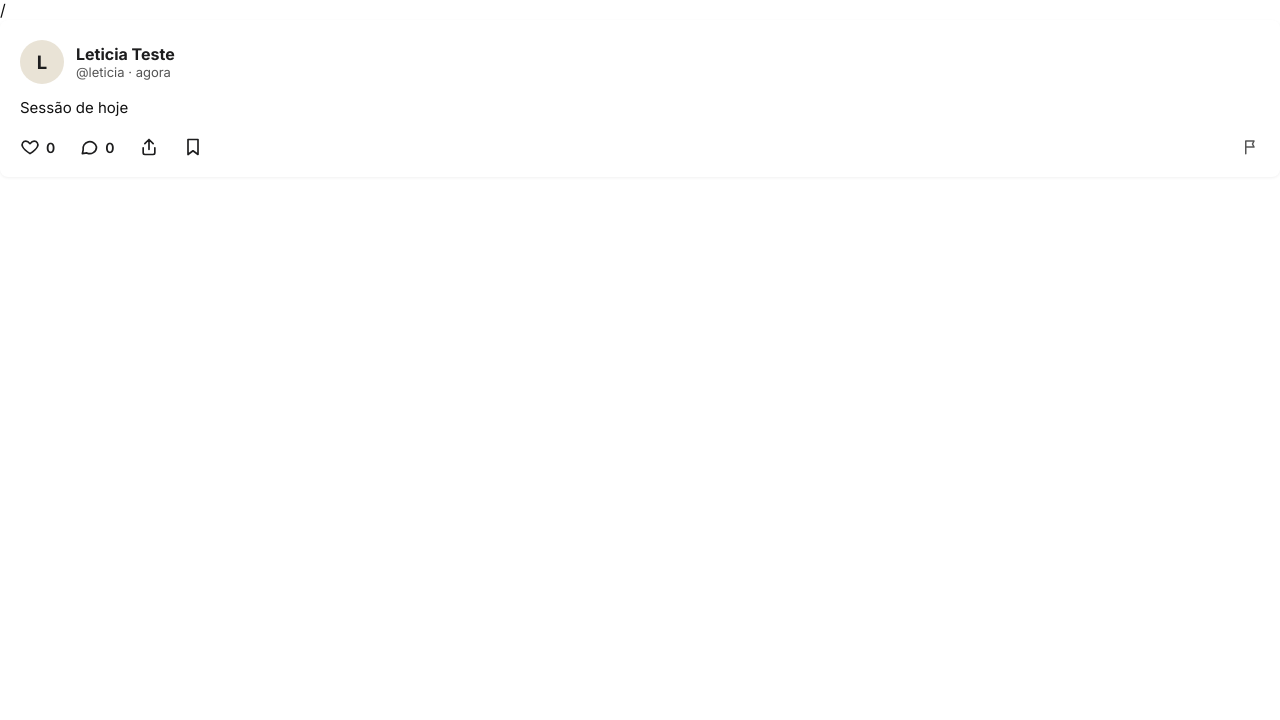
Test: denunciar › denuncia um post escolhendo o motivo
Click the button named "Denunciar post". click: (1251, 147)
box: [1232,131,1270,163]
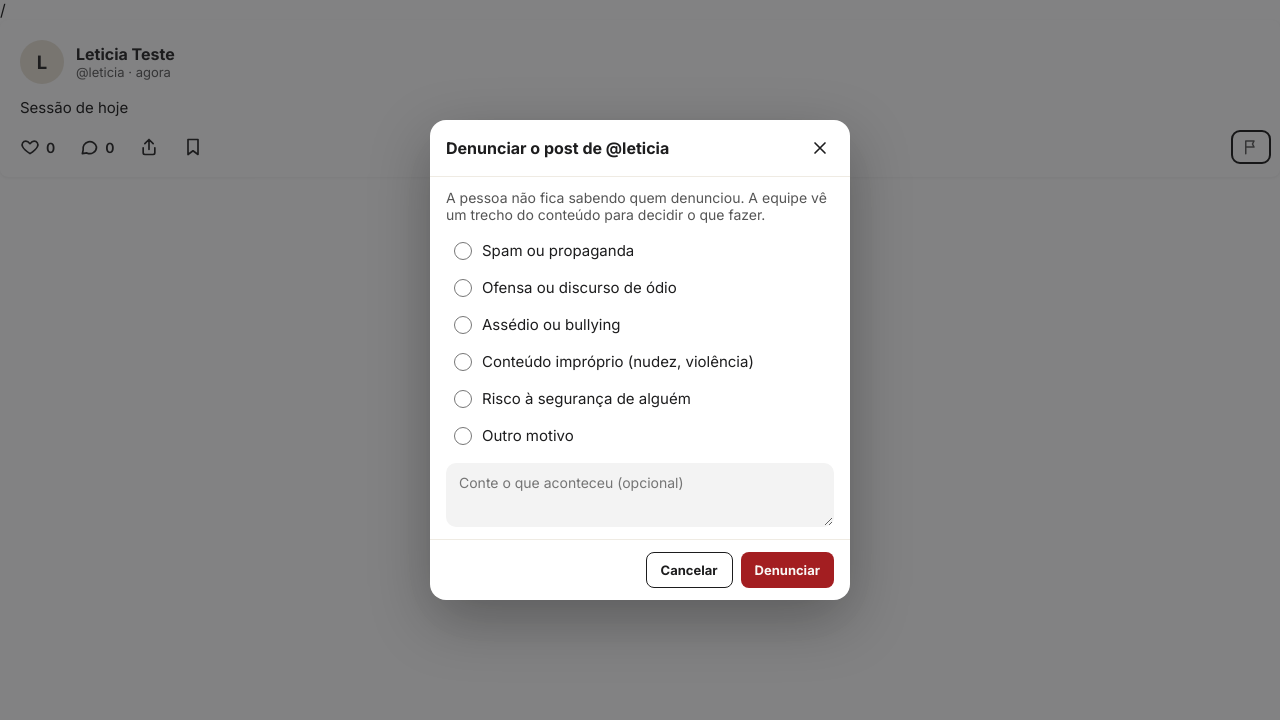
# Sem motivo não envia
Click the button "Denunciar". click: (787, 570)
box: [741,552,834,588]
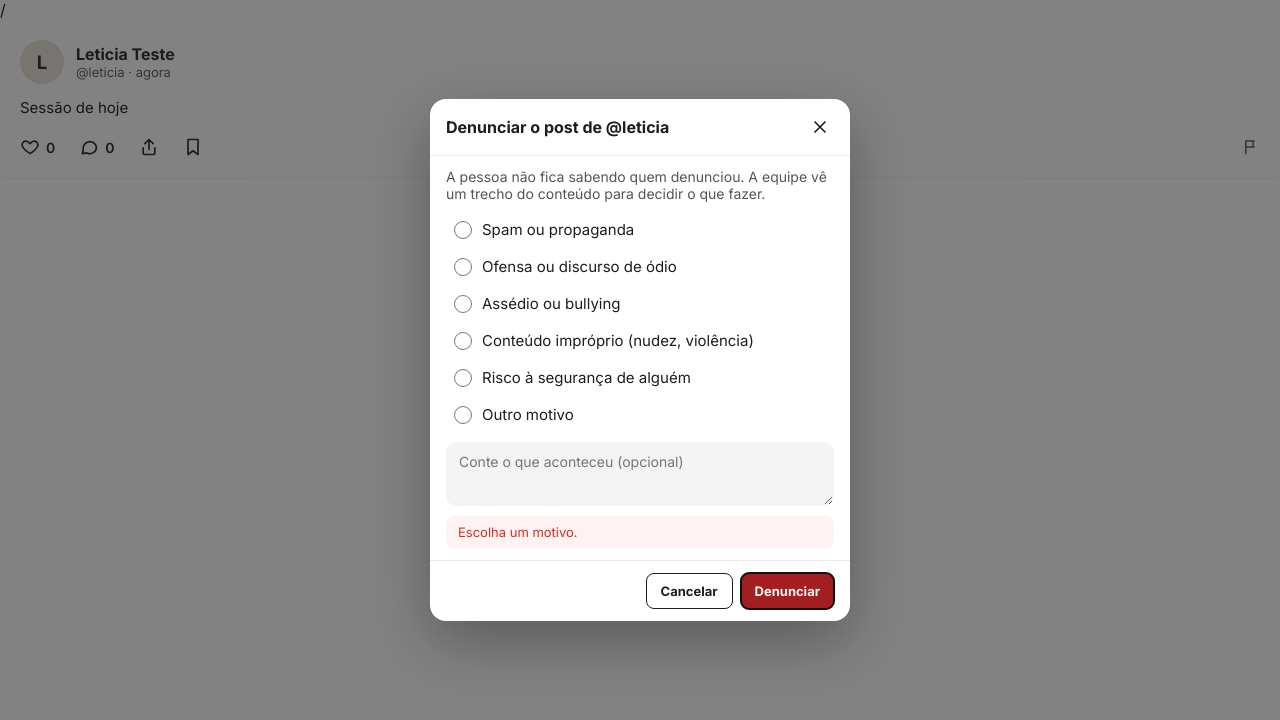
Expected: the message reads "Escolha um motivo.", [458,524,578,540]
Click the radio button labelled "Spam ou propaganda". click: (463, 230)
box: [454,220,472,238]
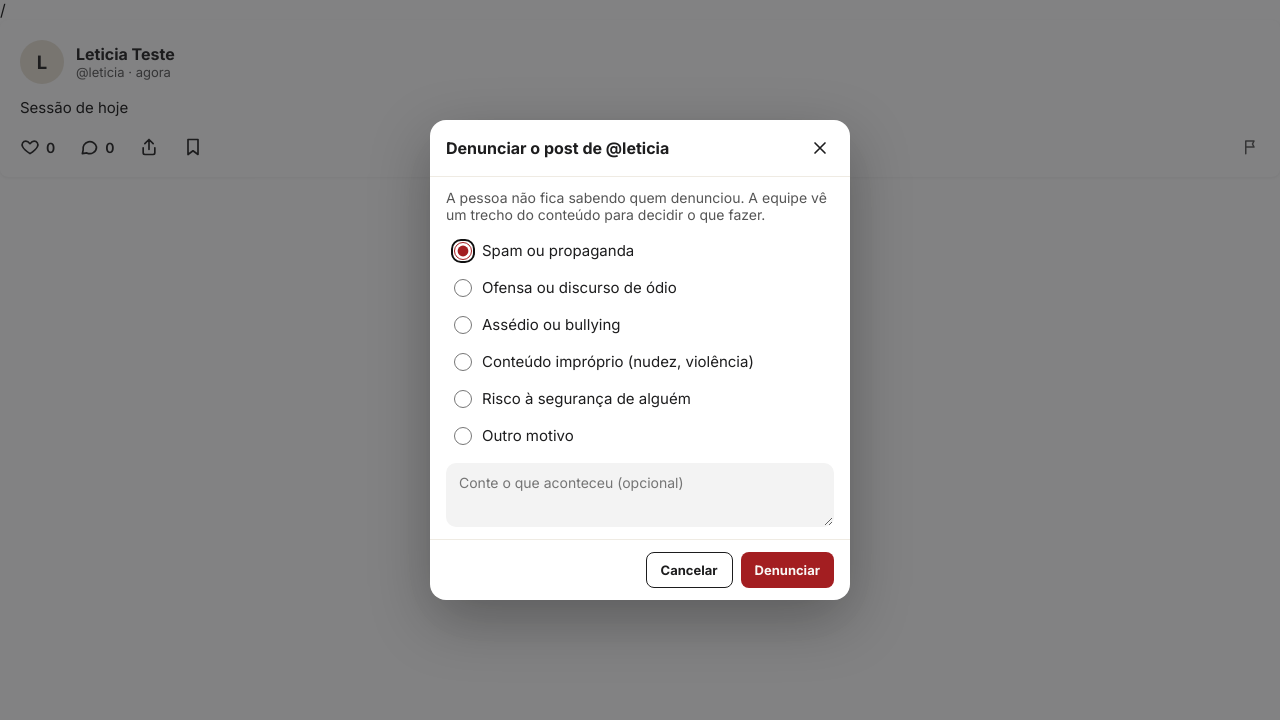
Type "  link estranho " into the text box named "Detalhes (opcional)". click: (640, 495)
box: [446,463,834,527]
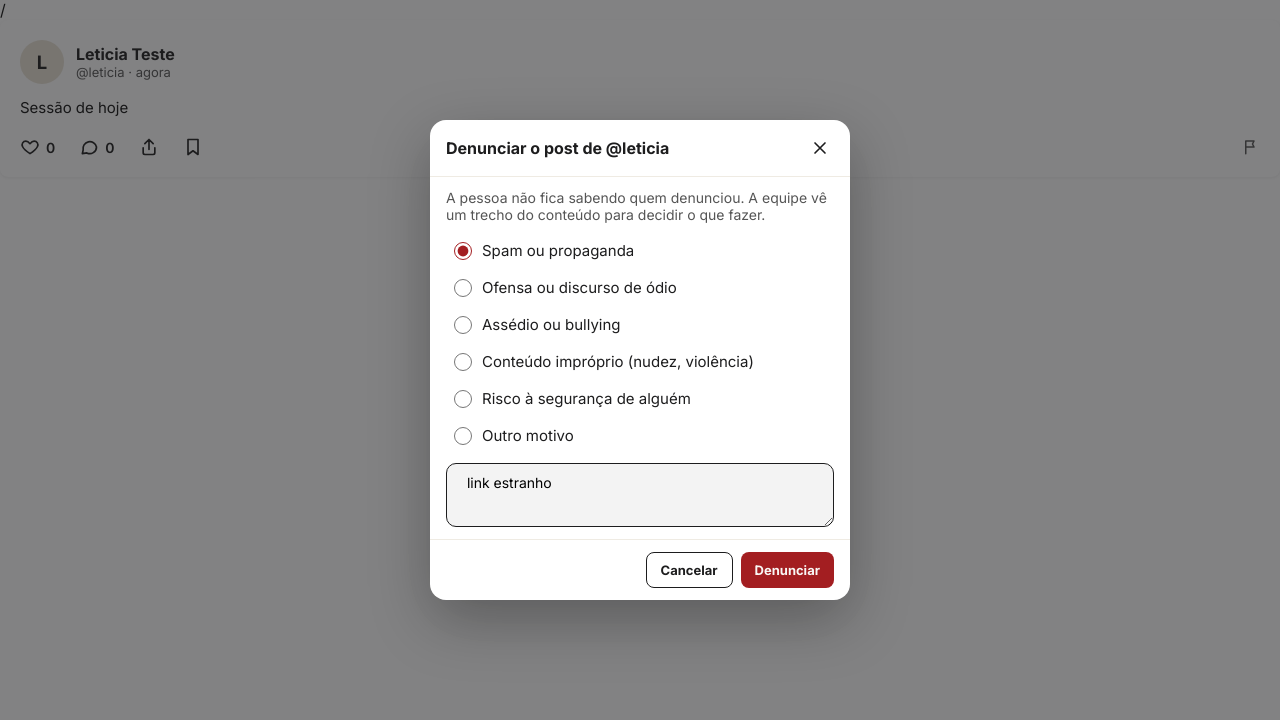
Click the button "Denunciar". click: (787, 570)
box: [741,552,834,588]
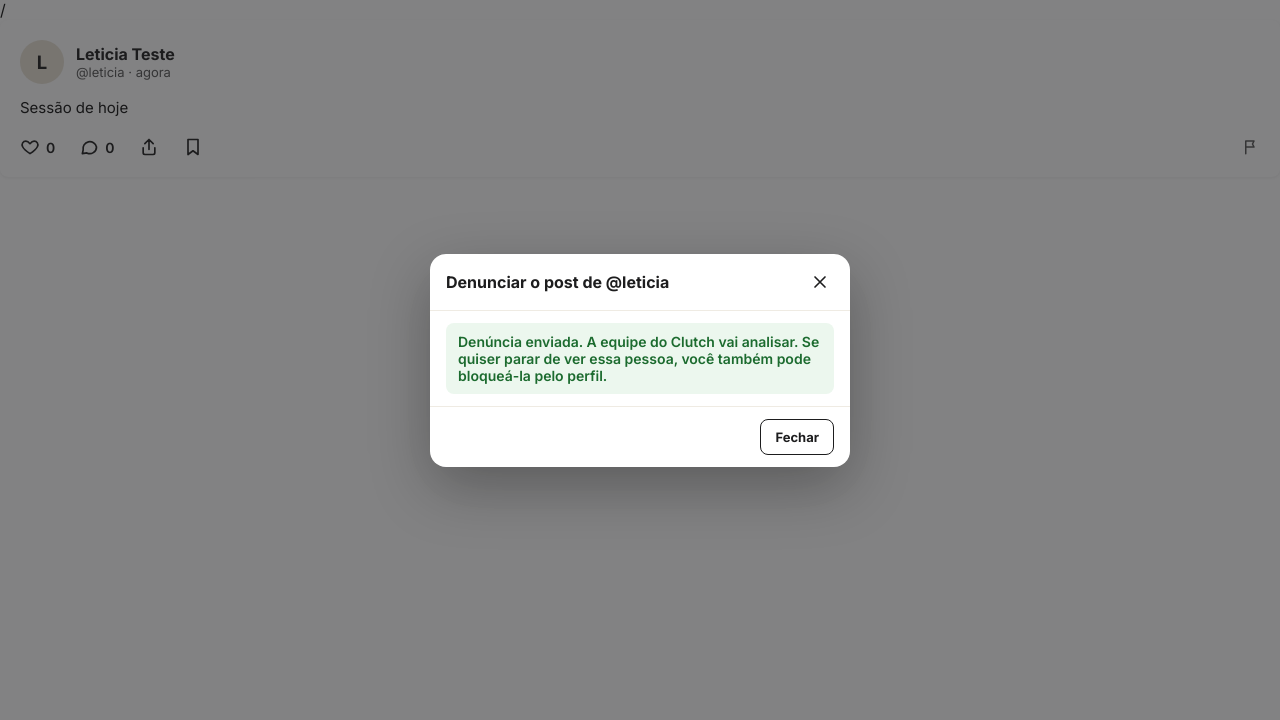
Expected: the dialog "Denunciar o post de @leticia" is shown, [430,254,850,466]
Expected: the message shows "Denúncia enviada", [458,332,819,384]
